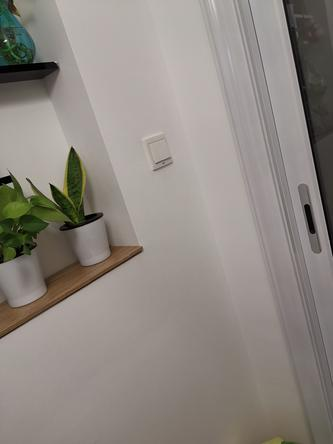switch: (143, 136, 173, 164)
